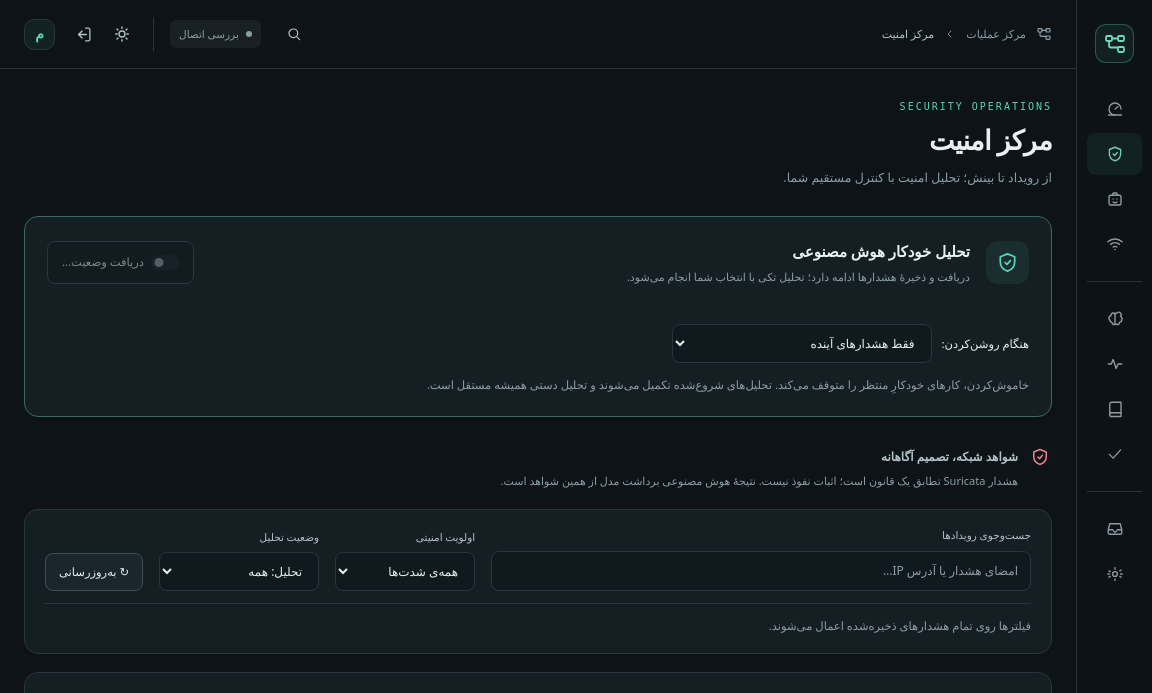
Test: finds an operational page through the keyboard navigator without submitting jobs
This screenshot has width=1152, height=693.
Expected: the switch is shown, [47,241,194,284]
Press k
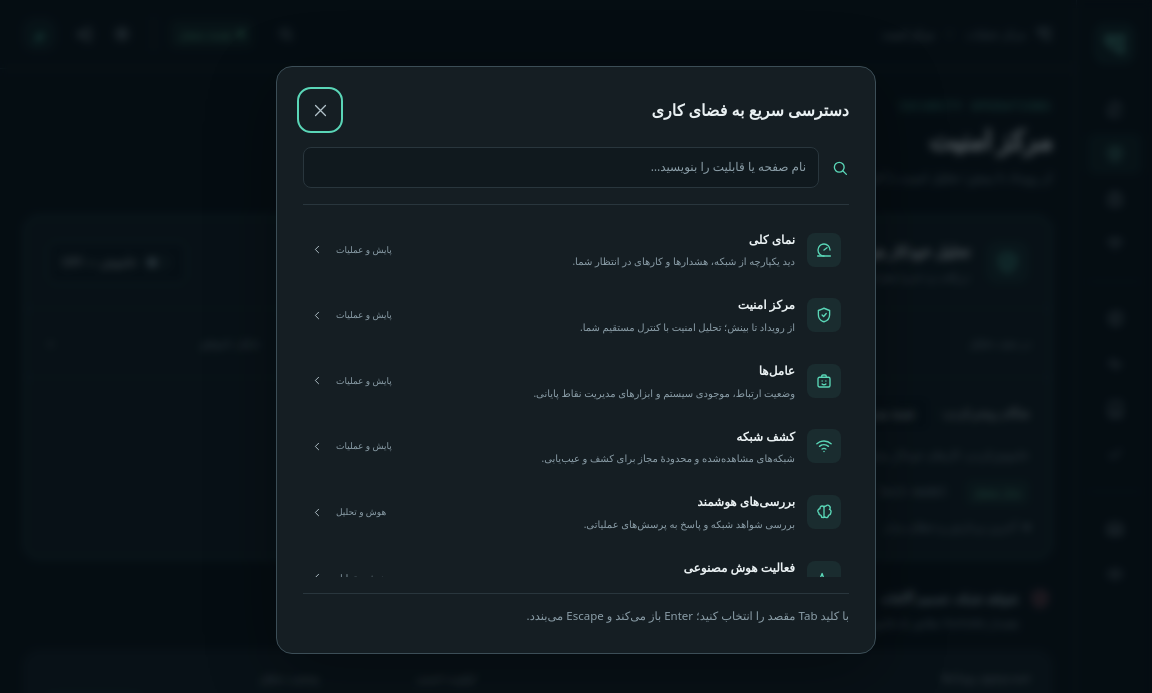
Type "SECURITY" into the field named "جست‌وجوی صفحه‌ها" at [561, 168], box [303,148,819,188]
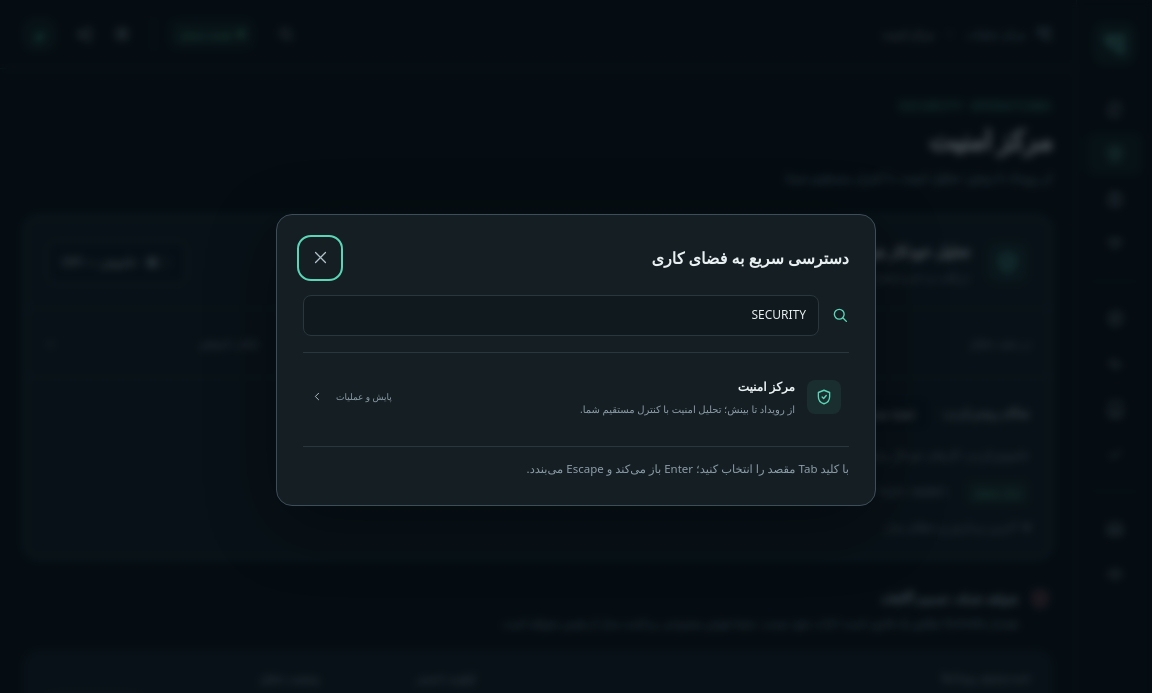
Press Enter in the field named "جست‌وجوی صفحه‌ها", box [303,295,819,335]
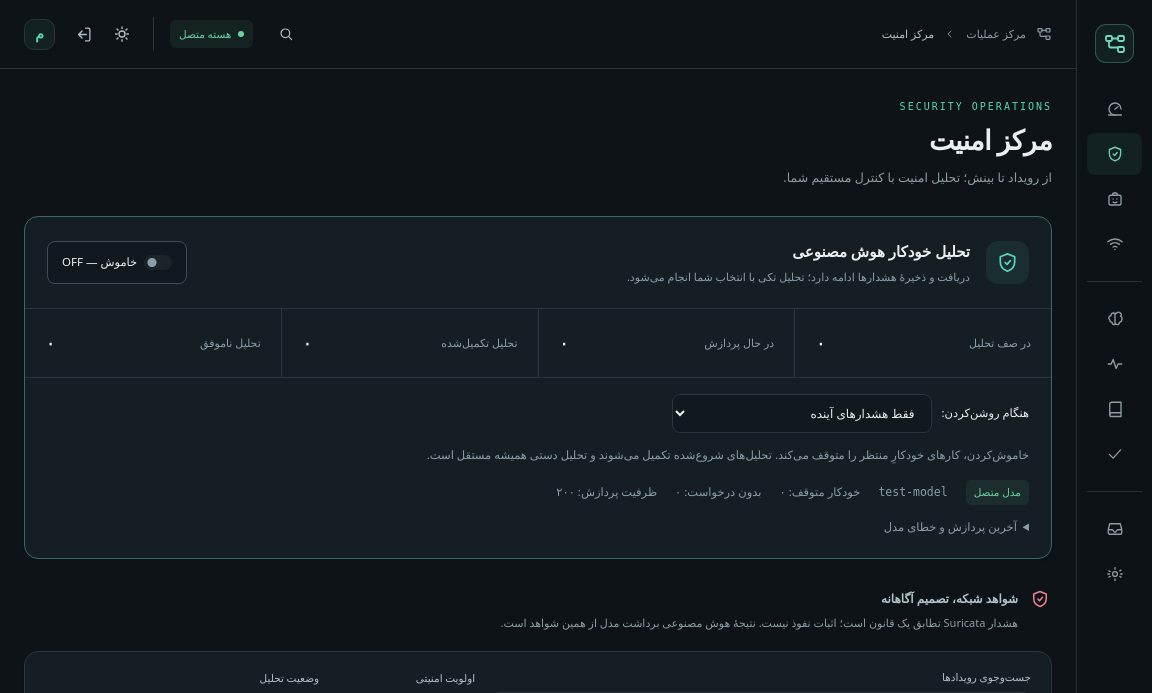
Expected: the switch is shown, [47,241,187,284]
Now the dialog is gone
